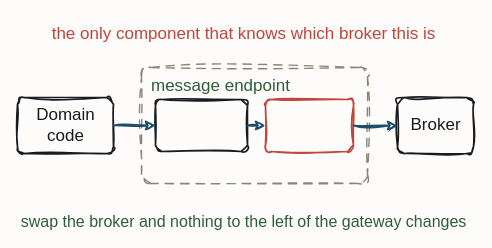
The diagram is 492 pixels wide and 248 high, and some of its shapes have lost their labels. The centre of each missing label's shape, as x and y in pixels:
Messaging Gateway: point 309,125
Pump + Mapper: point 201,125
